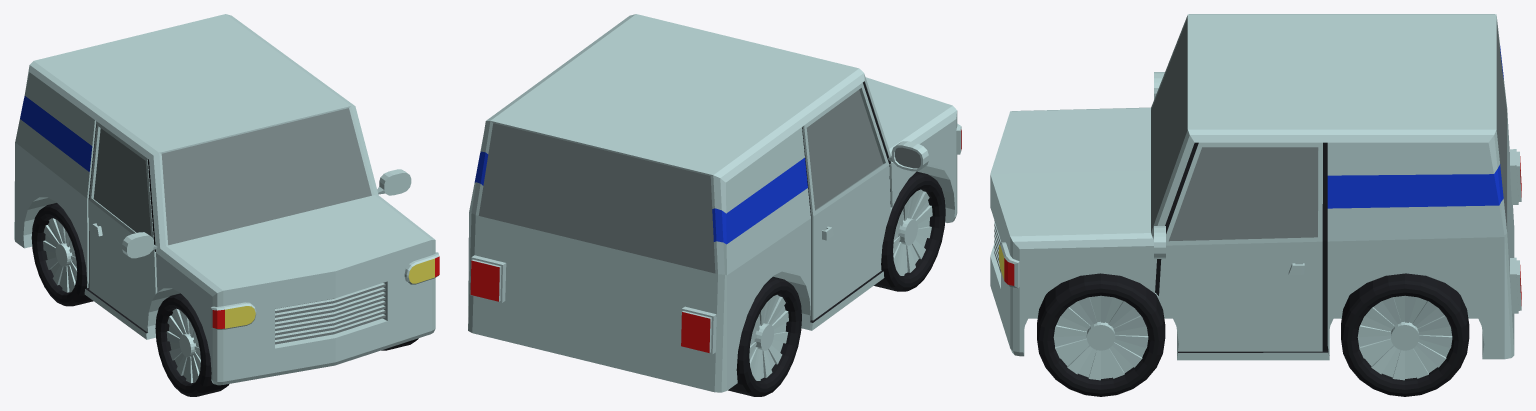
The model's file is mail truck 1 for prototype.fbx.
3 renders of one model, left to right at view 1: azimuth 30°, elevation 25°; view 2: azimuth 150°, elevation 25°; view 3: azimuth 270°, elevation 25°, orthographic. The views are drawn at different scales.
Visible parts, largest first — view 1: Cube; view 2: Cube; view 3: Cube.
Part boxes in pixels (bbox=[...]): Cube: bbox=[14, 14, 439, 396]; Cube: bbox=[468, 14, 961, 396]; Cube: bbox=[990, 14, 1521, 396].
Size of the model in its own units: 216 by 155 by 285.
